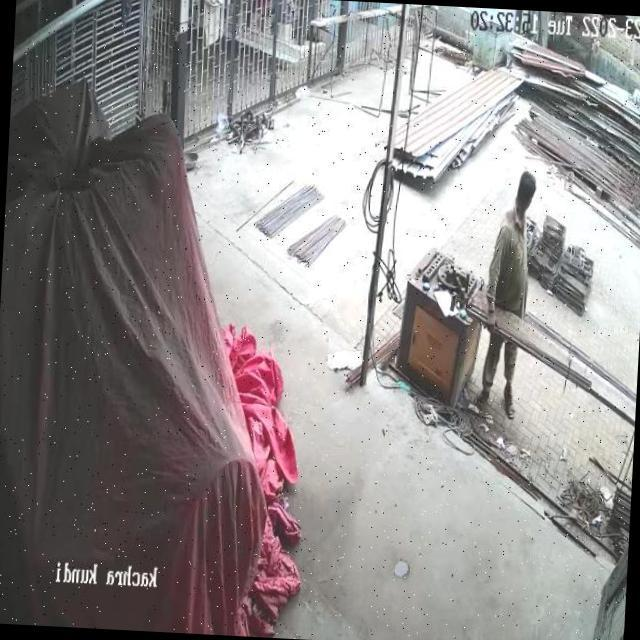person: (476, 164, 542, 416)
